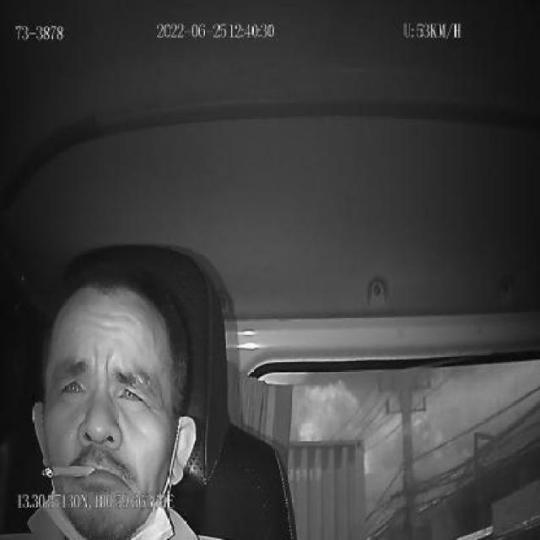smoking: (41, 465, 96, 478)
